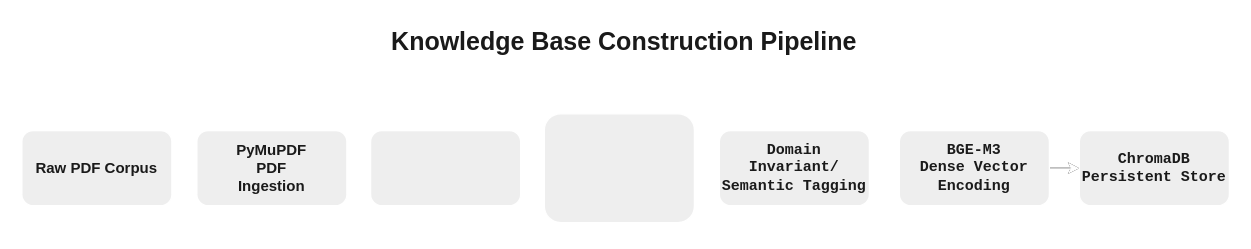
The diagram is 1251 pixels wide and 249 high, and some of its shapes have lost their labels. The centre of each missing label's shape, as x and y in pixels:
"Semantic Text Chunking (Maximum 50-word chunks)" goes at [618,167].
"Text Sanitization" goes at [445,167].
